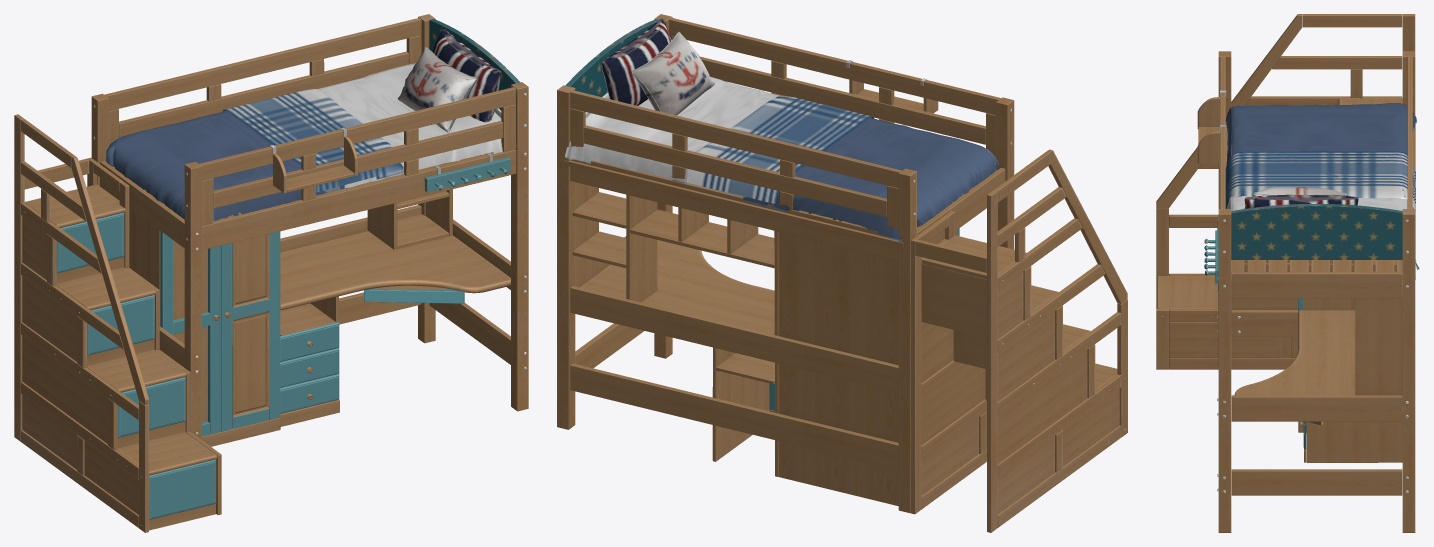
File: raw_model.obj
3 views of the same model, side by side, from view 1: azimuth 30°, elevation 25°; view 2: azimuth 150°, elevation 25°; view 3: azimuth 270°, elevation 25° (orthographic). The views are drawn at different scales.
Visible parts, largest first — view 1: solid_007, solid_008, solid_002, solid_001, solid_003, solid_004, solid_005, solid_006; view 2: solid_007, solid_002, solid_001, solid_003, solid_004, solid_005, solid_006; view 3: solid_007, solid_006, solid_002, solid_001, solid_005, solid_003, solid_008, solid_004.
Boxes of the visible parts, left/top/right/bottom form: solid_007: left=14, top=14, right=528, bottom=532; solid_008: left=56, top=157, right=510, bottom=519; solid_002: left=106, top=111, right=347, bottom=220; solid_001: left=222, top=89, right=403, bottom=192; solid_003: left=317, top=63, right=516, bottom=188; solid_004: left=397, top=47, right=476, bottom=132; solid_005: left=433, top=29, right=501, bottom=122; solid_006: left=429, top=19, right=520, bottom=110; solid_007: left=557, top=14, right=1127, bottom=532; solid_002: left=743, top=117, right=999, bottom=241; solid_001: left=686, top=96, right=874, bottom=203; solid_003: left=564, top=76, right=780, bottom=197; solid_004: left=632, top=31, right=714, bottom=115; solid_005: left=602, top=18, right=671, bottom=105; solid_006: left=565, top=19, right=658, bottom=96; solid_007: left=1156, top=14, right=1415, bottom=532; solid_006: left=1231, top=204, right=1402, bottom=259; solid_002: left=1225, top=103, right=1416, bottom=164; solid_001: left=1225, top=151, right=1415, bottom=211; solid_005: left=1244, top=194, right=1358, bottom=208; solid_003: left=1226, top=196, right=1419, bottom=270; solid_008: left=1204, top=230, right=1306, bottom=450; solid_004: left=1252, top=186, right=1347, bottom=196.
Bounding box in the file's own units: 2.61 × 1.99 × 1.45.
1 material, 1 textured.
